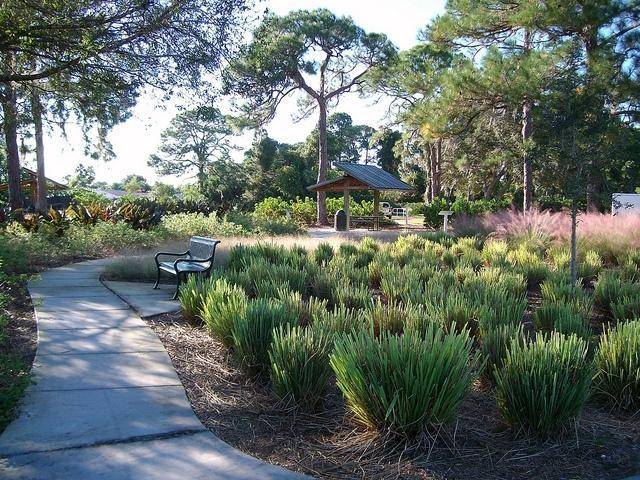car: (380, 202, 406, 214)
